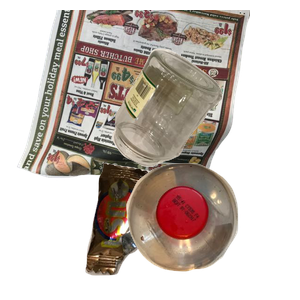glass: (110, 46, 300, 205)
paper: (14, 10, 254, 190)
plastic: (124, 161, 300, 300)
trash: (83, 160, 233, 300)
